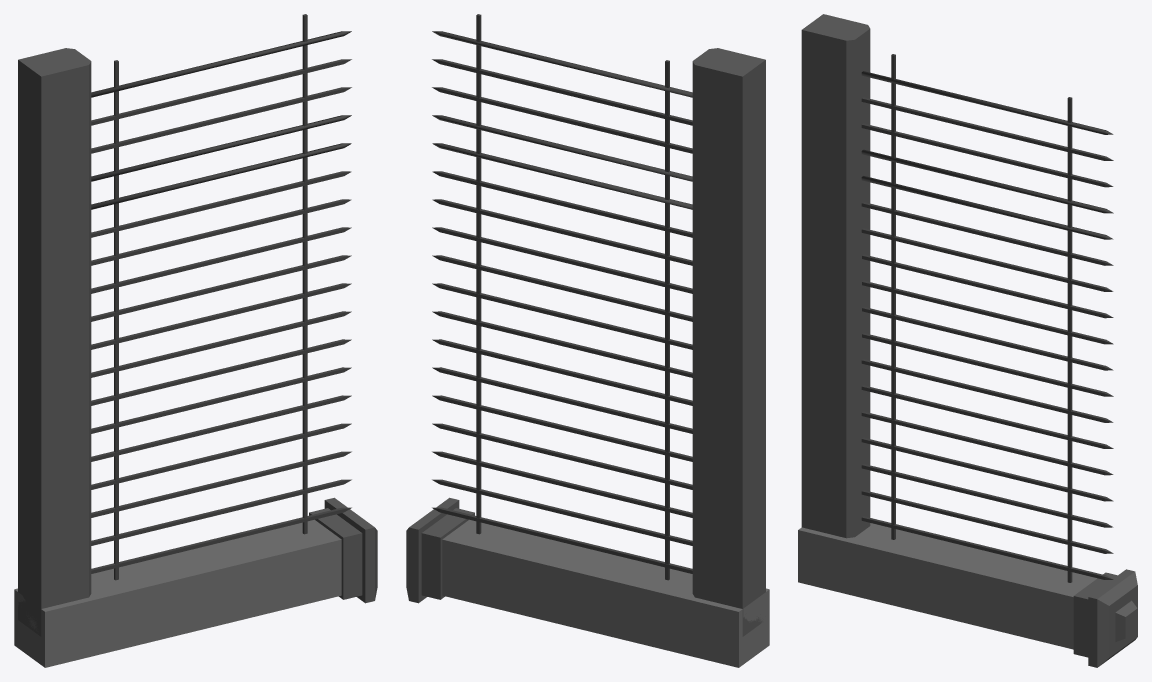
File: Fence2Broke.fbx
The picture shows the model from 3 angles, left to right: view 1: azimuth 30°, elevation 25°; view 2: azimuth 150°, elevation 25°; view 3: azimuth 330°, elevation 25°; orthographic projection. The views are drawn at different scales.
Visible parts, largest first — view 1: Fence_03_fracturepart14_2, Fence_03_fracturepart8_5, Fence_03_fracturepart11_2, Fence_03_fracturepart6_5, Fence_03_fracturepart7_8, Fence_03_fracturepart3_3, Fence_03_fracturepart19_3, Fence_03_fracturepart17_5, Fence_03_fracturepart13_5, Fence_03_fracturepart2_2, Fence_03_fracturepart12_2, Fence_03_fracturepart15_2 (+29 smaller); view 2: Fence_03_fracturepart19_3, Fence_03_fracturepart3_3, Fence_03_fracturepart7_8, Fence_03_fracturepart11_2, Fence_03_fracturepart17_5, Fence_03_fracturepart14_2, Fence_03_fracturepart8_5, Fence_03_fracturepart6_5, Fence_03_fracturepart12_2, Fence_03_fracturepart15_2, Fence_03_fracturepart2_2, Fence_03_fracturepart15_4 (+28 smaller); view 3: Fence_03_fracturepart14_2, Fence_03_fracturepart8_5, Fence_03_fracturepart6_5, Fence_03_fracturepart7_8, Fence_03_fracturepart13_5, Fence_03_fracturepart19_3, Fence_03_fracturepart17_5, Fence_03_fracturepart11_2, Fence_03_fracturepart3_3, Fence_03_fracturepart2_2, Fence_03_fracturepart16_13, Fence_03_fracturepart1_3 (+27 smaller).
Boxes of the visible parts, x1,y1,x2,y2 form: Fence_03_fracturepart14_2: (18,48,91,137); Fence_03_fracturepart8_5: (18,236,91,332); Fence_03_fracturepart11_2: (18,459,91,557); Fence_03_fracturepart6_5: (18,390,91,475); Fence_03_fracturepart7_8: (179,532,279,622); Fence_03_fracturepart3_3: (18,110,91,225); Fence_03_fracturepart19_3: (263,497,343,613); Fence_03_fracturepart17_5: (109,553,228,632); Fence_03_fracturepart13_5: (18,160,91,251); Fence_03_fracturepart2_2: (102,570,190,650); Fence_03_fracturepart12_2: (18,294,91,381); Fence_03_fracturepart15_2: (18,550,91,603); Fence_03_fracturepart19_3: (406,523,528,610); Fence_03_fracturepart3_3: (692,120,765,242); Fence_03_fracturepart7_8: (492,534,597,625); Fence_03_fracturepart11_2: (692,459,765,563); Fence_03_fracturepart17_5: (565,551,657,637); Fence_03_fracturepart14_2: (692,48,765,126); Fence_03_fracturepart8_5: (692,235,765,318); Fence_03_fracturepart6_5: (692,392,765,475); Fence_03_fracturepart12_2: (692,308,765,376); Fence_03_fracturepart15_2: (692,556,765,618); Fence_03_fracturepart2_2: (617,565,684,654); Fence_03_fracturepart15_4: (654,571,757,625); Fence_03_fracturepart14_2: (801,14,870,103); Fence_03_fracturepart8_5: (801,193,870,290); Fence_03_fracturepart6_5: (801,340,870,422); Fence_03_fracturepart7_8: (956,548,1052,632); Fence_03_fracturepart13_5: (801,131,870,210); Fence_03_fracturepart19_3: (1007,567,1137,650); Fence_03_fracturepart17_5: (902,532,973,623); Fence_03_fracturepart11_2: (801,403,870,478); Fence_03_fracturepart3_3: (801,84,870,157); Fence_03_fracturepart2_2: (864,530,934,615); Fence_03_fracturepart16_13: (1053,573,1137,632); Fence_03_fracturepart1_3: (801,300,870,346).
Size of the model in its own units: 255 by 426 by 52.51.
1 material, 1 textured.
